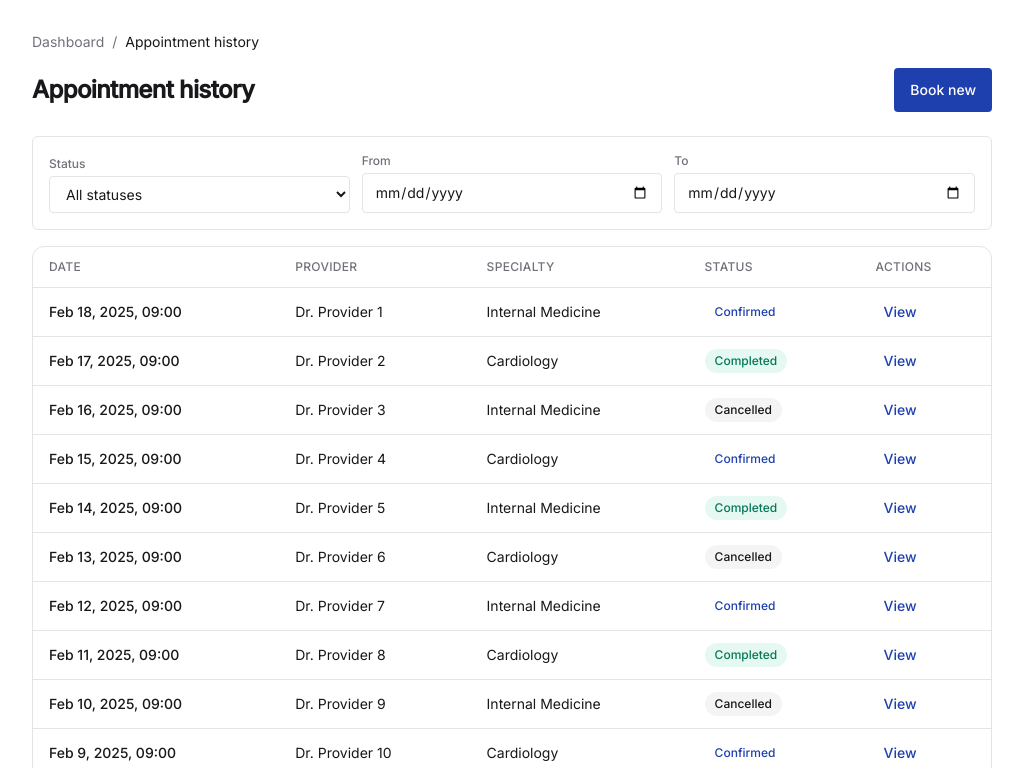
Scenario: AppointmentHistoryPage › filters by status
The image size is (1024, 768).
Select "Cancelled" in the dropdown labelled "Status" at x=199, y=194, box x1=49 y1=176 x2=350 y2=213
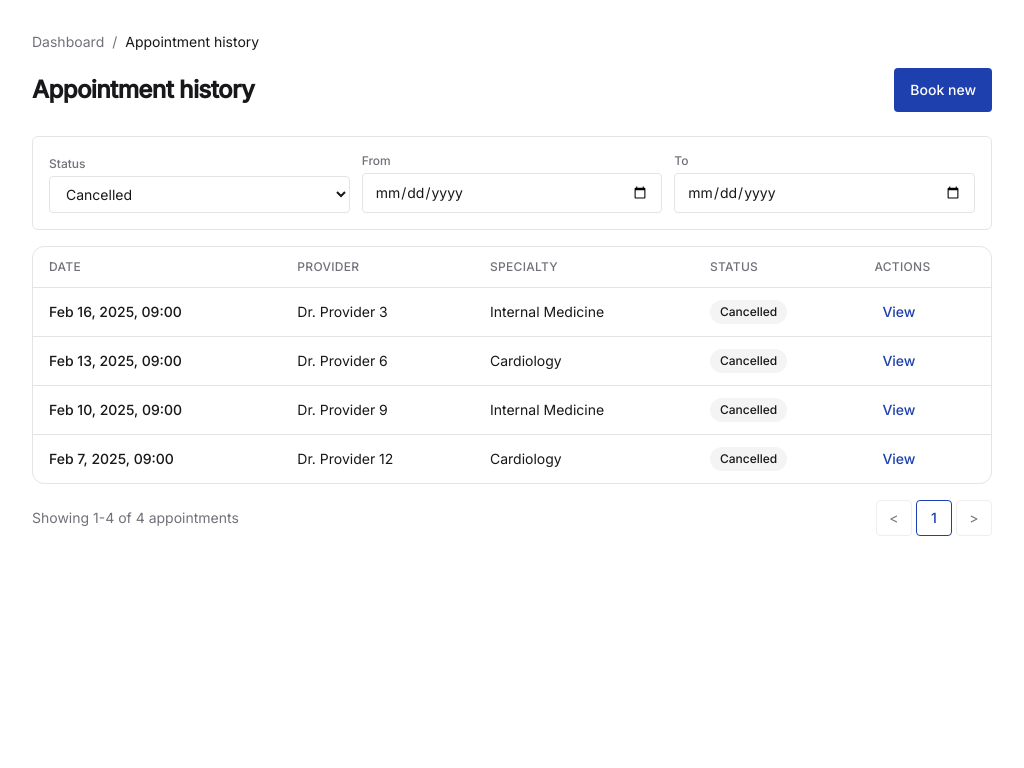
Now the text "Showing 1-4 of 4 appointments" is shown, box x1=32 y1=508 x2=239 y2=528
